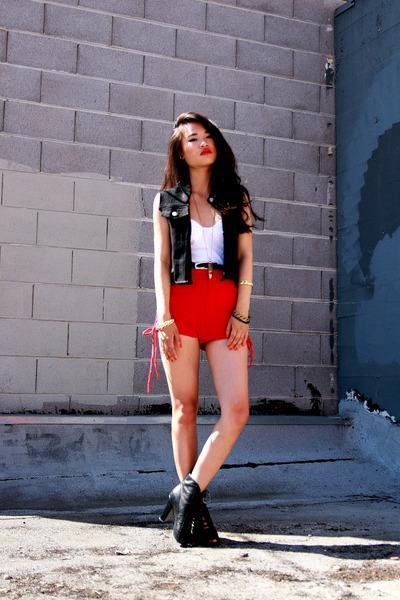jacket: (159, 205, 251, 290)
shirt: (191, 213, 223, 268)
shoe: (171, 468, 210, 525)
skirt: (169, 264, 238, 341)
